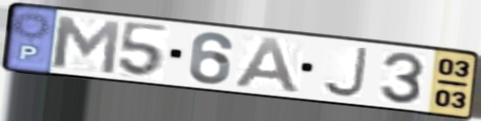3: (378, 50, 427, 106)
5: (115, 19, 172, 80)
6: (186, 29, 236, 86)
A: (231, 35, 304, 96)
J: (319, 45, 371, 99)
M: (50, 13, 123, 76)
